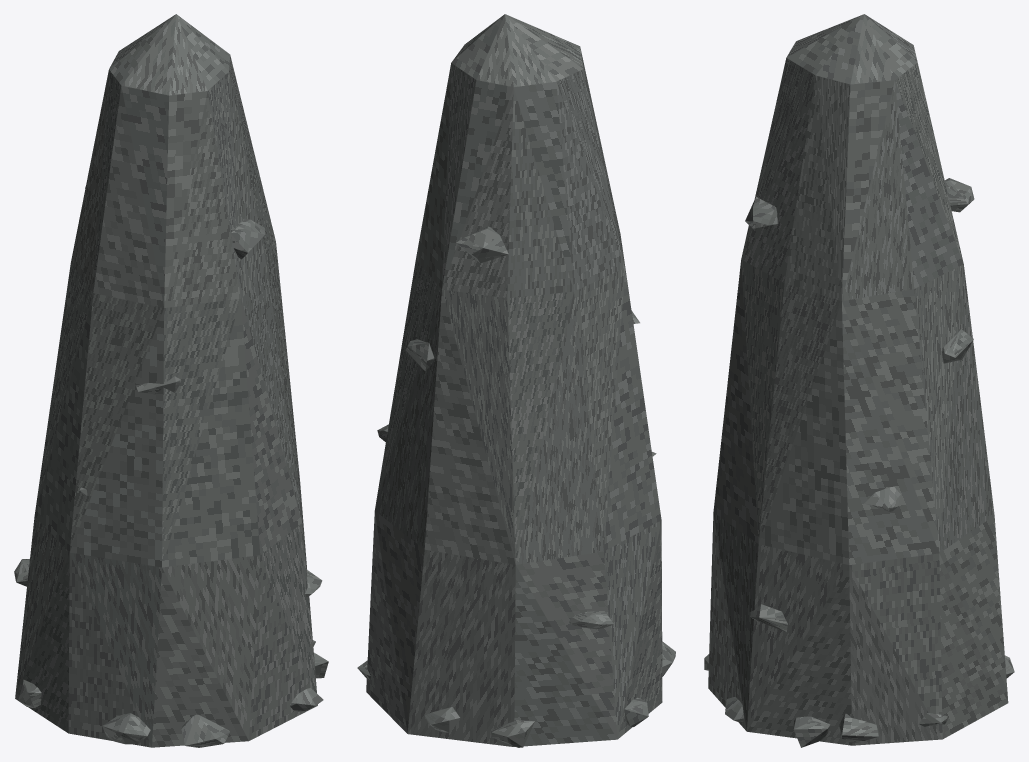
Rendered from f_rock_mound_tall.glb.
3 renders of one model, left to right at view 1: azimuth 30°, elevation 25°; view 2: azimuth 150°, elevation 25°; view 3: azimuth 270°, elevation 25°, orthographic.
Visible parts, largest first — view 1: block_heaped-rock, block_loose-rock (×3); view 2: block_heaped-rock, block_loose-rock (×6); view 3: block_heaped-rock, block_loose-rock (×7).
Part boxes in pixels (bbox=[...]): block_heaped-rock: bbox=[15, 14, 317, 747]; block_loose-rock (×3): bbox=[102, 219, 265, 747]; block_heaped-rock: bbox=[366, 14, 662, 746]; block_loose-rock (×6): bbox=[405, 226, 648, 747]; block_heaped-rock: bbox=[708, 14, 1008, 745]; block_loose-rock (×7): bbox=[745, 178, 974, 747].
Bounding box in the file's own units: 0.9169 × 2.1 × 0.8737.
Materials: 1 (1 with a texture image).
